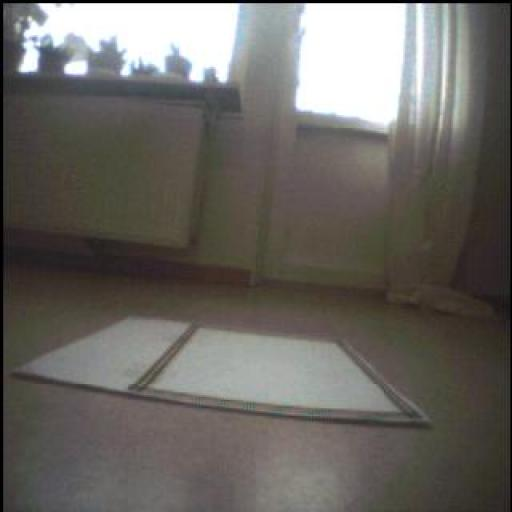Pad: (16, 306, 448, 425)
